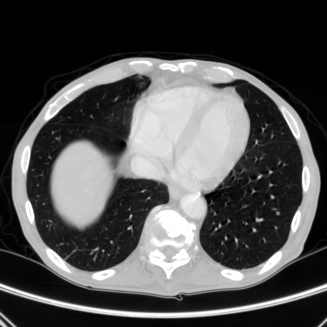nodule: (276, 211, 280, 215)
